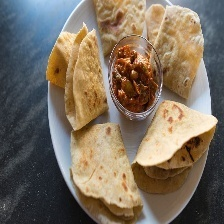roti: (91, 0, 147, 60)
